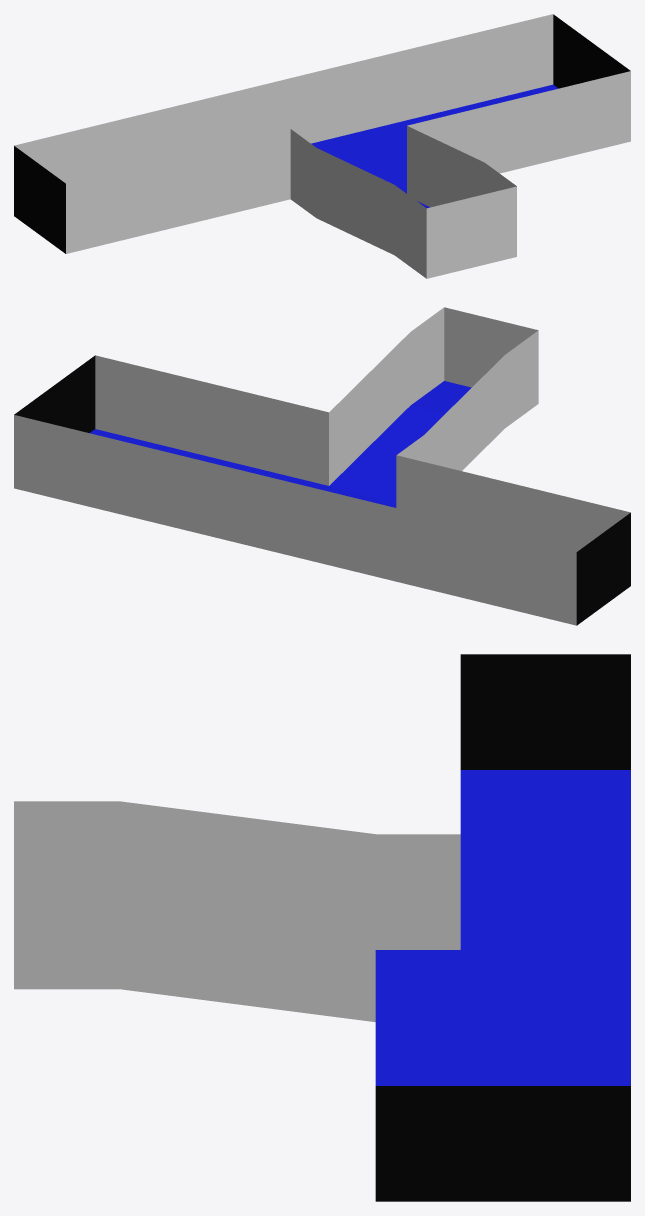
File: Level2.fbx
3 renders of one model, top to bottom at view 1: azimuth 30°, elevation 25°; view 2: azimuth 150°, elevation 25°; view 3: azimuth 270°, elevation 25°, orthographic. The views are drawn at different scales.
Parts seen in each view (by area): view 1: Plane; view 2: Plane; view 3: Plane.
Boxes of the visible parts, bbox=[...] form: Plane: bbox=[14, 14, 630, 278]; Plane: bbox=[14, 307, 630, 625]; Plane: bbox=[14, 654, 630, 1201].
Size of the model in its own units: 4800 by 771 by 2900.
